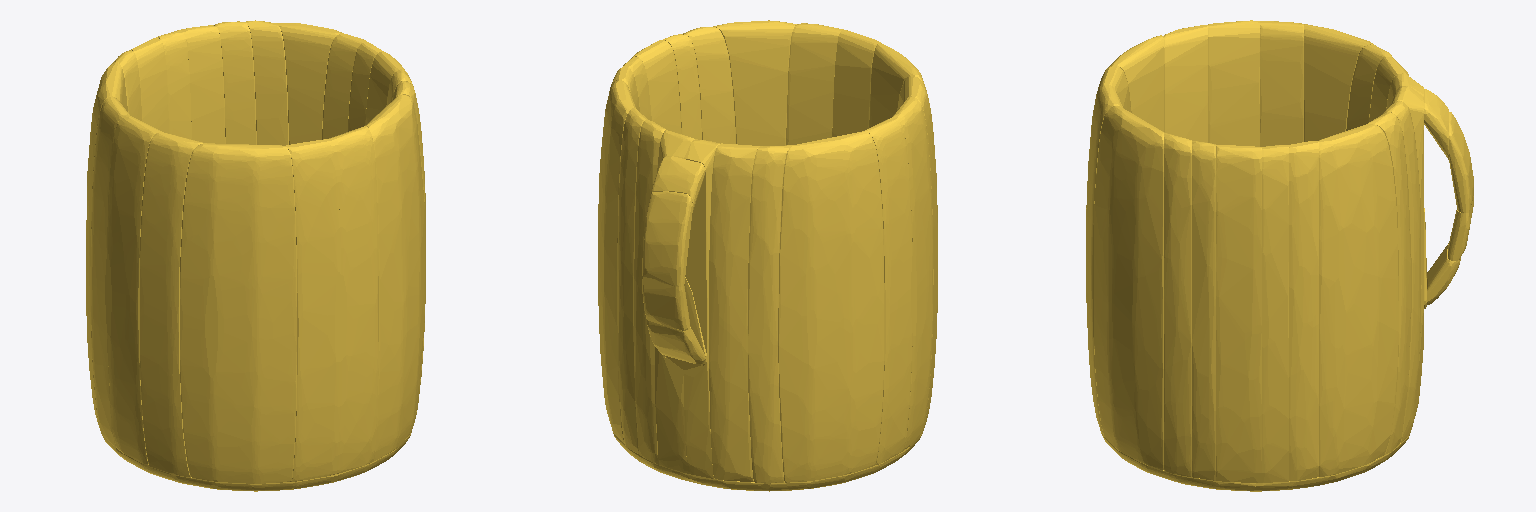
The robot description file, URDF, robot "419.urdf":
<?xml version="1.0" ?>
<robot name="419.urdf">
	<link name="baseLink">
		<inertial>
			<origin rpy="0 0 0" xyz="0 0 0"/>
				<mass value="0.1"/>
				<inertia ixx="6e-5" ixy="0" ixz="0" iyy="6e-5" iyz="0" izz="6e-5"/>
		</inertial>
		<visual>
			<origin rpy="0 0 0" xyz="0 0 0"/>
			<geometry>
				<mesh filename="26_decom_wt.obj" scale="0.96 0.96 1.05"/>
			</geometry>
			<material name="yellow">
				<color rgba="0.98 0.84 0.35 1"/>
			</material>
		</visual>
		<collision>
			<origin rpy="0 0 0" xyz="0 0 0"/>
			<geometry>
				<mesh filename="26_decom_wt.obj" scale="0.96 0.96 1.05"/>
			</geometry>
		</collision>
	</link>
</robot>

--- Render facts (derived) ---
3 views of the same robot in one strip: view 1: azimuth 30°, elevation 25°; view 2: azimuth 150°, elevation 25°; view 3: azimuth 270°, elevation 25° (orthographic).
Robot: 419.urdf — 1 links, 0 joints (none); root link baseLink; default pose: all joints at 0.
Visible links, largest first — view 1: baseLink; view 2: baseLink; view 3: baseLink.
Boxes of the visible links, <box> form: baseLink: <box>86,20,425,491</box>; baseLink: <box>598,20,937,491</box>; baseLink: <box>1086,20,1473,491</box>.
Bounding box of the posed robot: 0.1054 × 0.1202 × 0.118 m (x, y, z).
Meshes: 1 distinct files referenced, 1 mesh visuals loaded (1 OBJ).